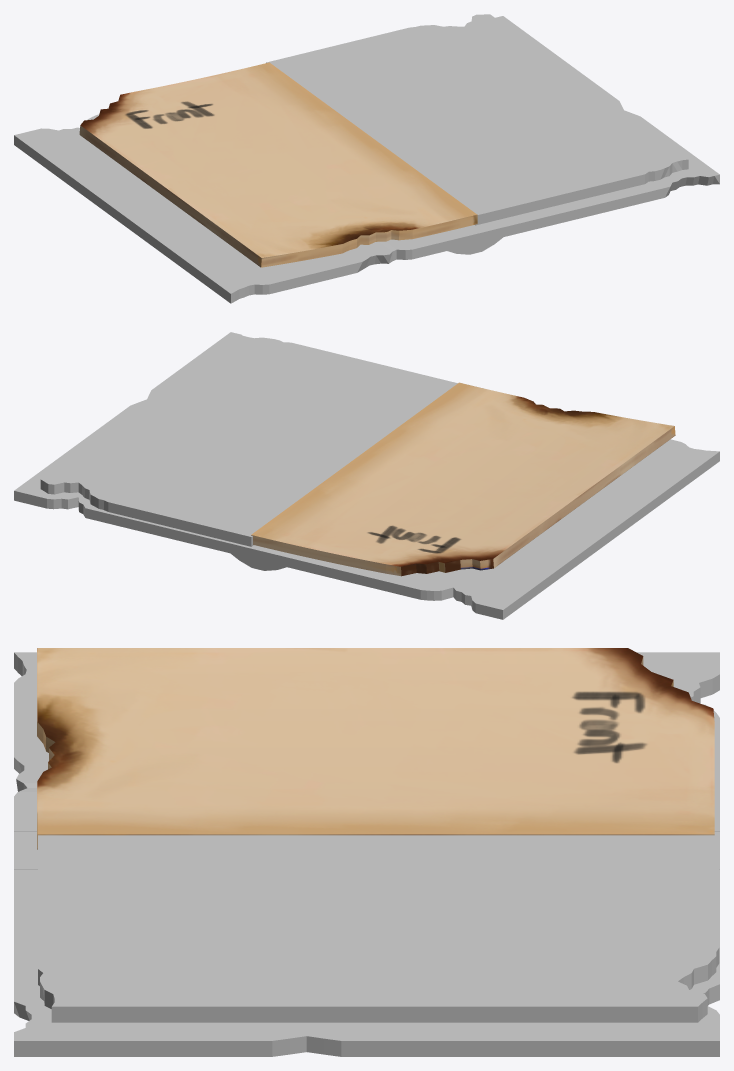
Rendered from BookAnimOpen.dae.
3 views of the same model, one above another, from view 1: azimuth 30°, elevation 25°; view 2: azimuth 150°, elevation 25°; view 3: azimuth 270°, elevation 25° (orthographic). The views are drawn at different scales.
Visible parts, largest first — view 1: Cube, PageR-002, CoverL, CoverR, Spine; view 2: Cube, PageR-002, CoverL, CoverR, Spine; view 3: Cube, PageR-002, CoverR, CoverL, Spine.
Boxes of the visible parts, bbox=[...] form: Cube: bbox=[266, 14, 688, 225]; PageR-002: bbox=[79, 62, 477, 267]; CoverL: bbox=[14, 114, 456, 303]; CoverR: bbox=[495, 16, 719, 236]; Spine: bbox=[446, 221, 503, 254]; Cube: bbox=[40, 334, 457, 546]; PageR-002: bbox=[251, 382, 675, 576]; CoverL: bbox=[277, 439, 719, 619]; CoverR: bbox=[14, 332, 241, 553]; Spine: bbox=[230, 542, 286, 570]; Cube: bbox=[38, 834, 719, 1022]; PageR-002: bbox=[37, 648, 714, 849]; CoverR: bbox=[14, 869, 719, 1056]; CoverL: bbox=[14, 652, 719, 831]; Spine: bbox=[14, 831, 719, 869].
Bounding box in the file's own units: 5.21 × 0.4112 × 4.
